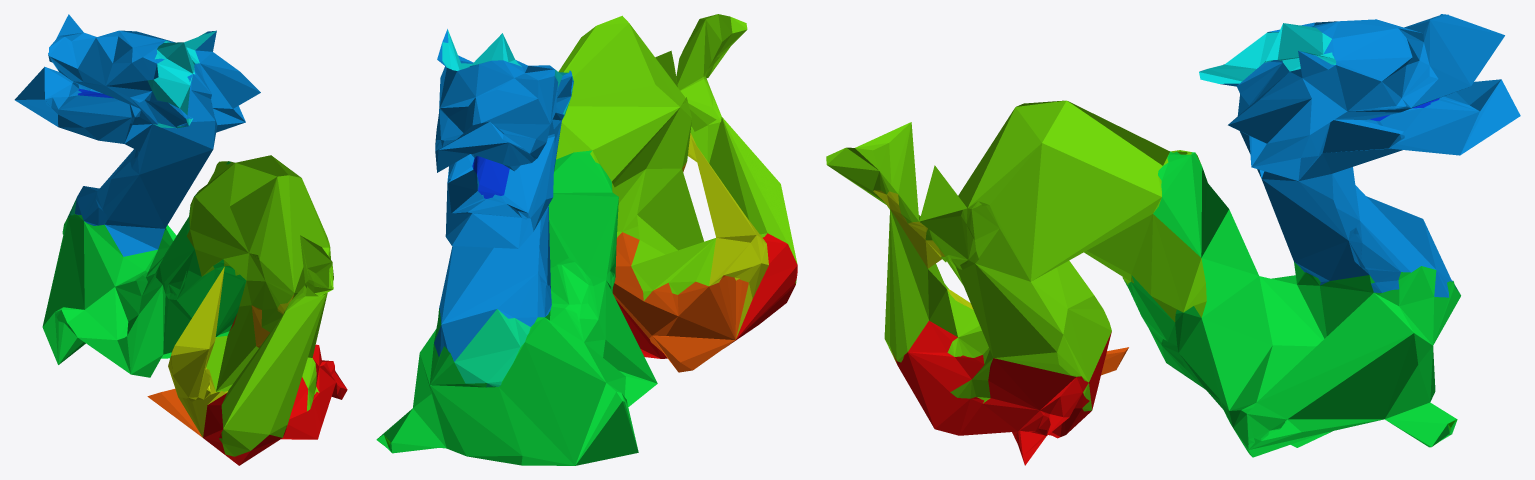
File: Dragon_80K_L6.fbx
3 renders of one model, left to right at view 1: azimuth 30°, elevation 25°; view 2: azimuth 150°, elevation 25°; view 3: azimuth 270°, elevation 25°, orthographic. The views are drawn at different scales.
Size of the model in its own units: 0.3986 by 0.6461 by 0.9792.
